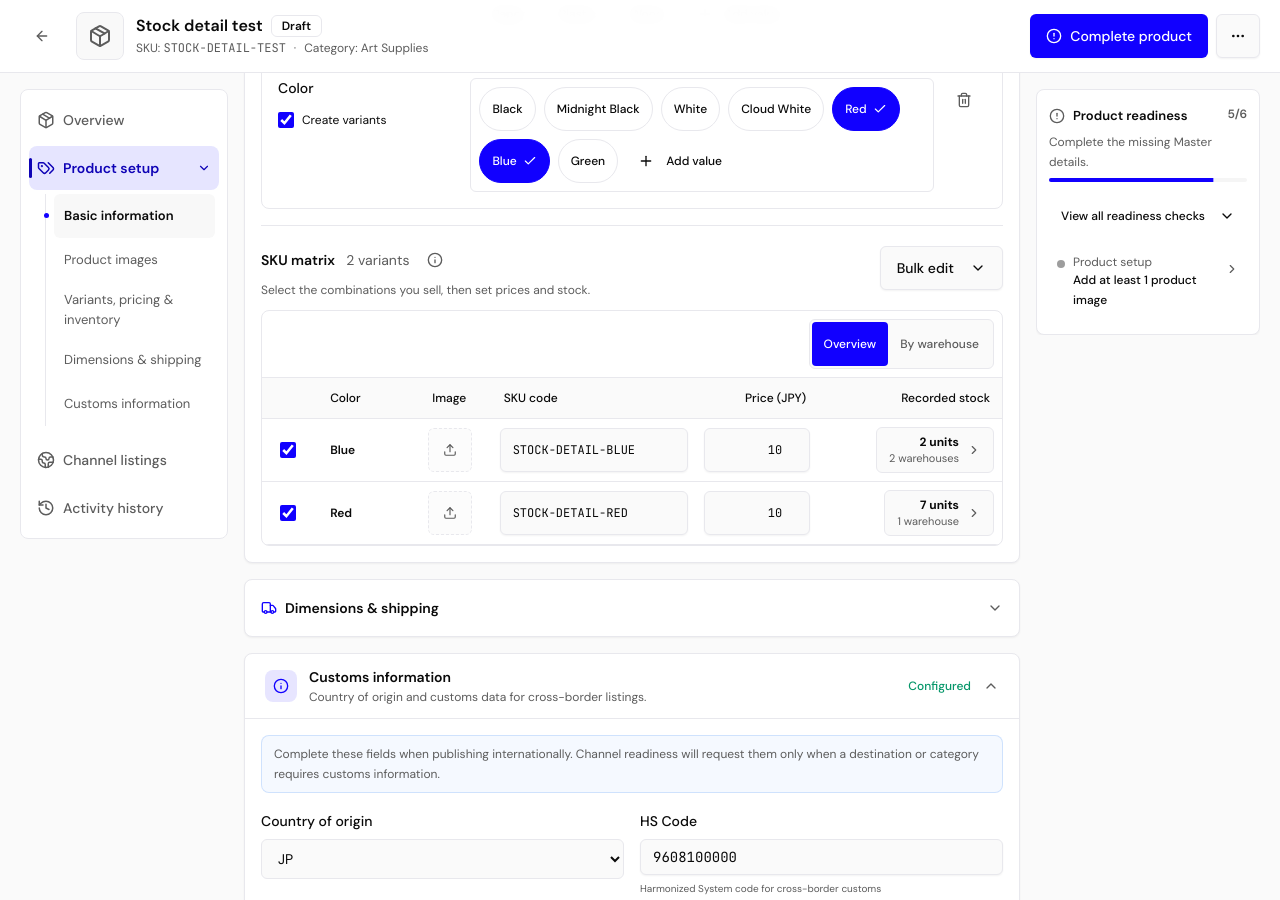
Test: stock adjustments without leaving Product Master › shows related locations per variant in a full-width panel and keeps provider stock read-only
This screenshot has width=1280, height=900.
(page scrolled)
Click the button with aria-label "View inventory for Blue": (935, 450) [876, 427, 994, 473]
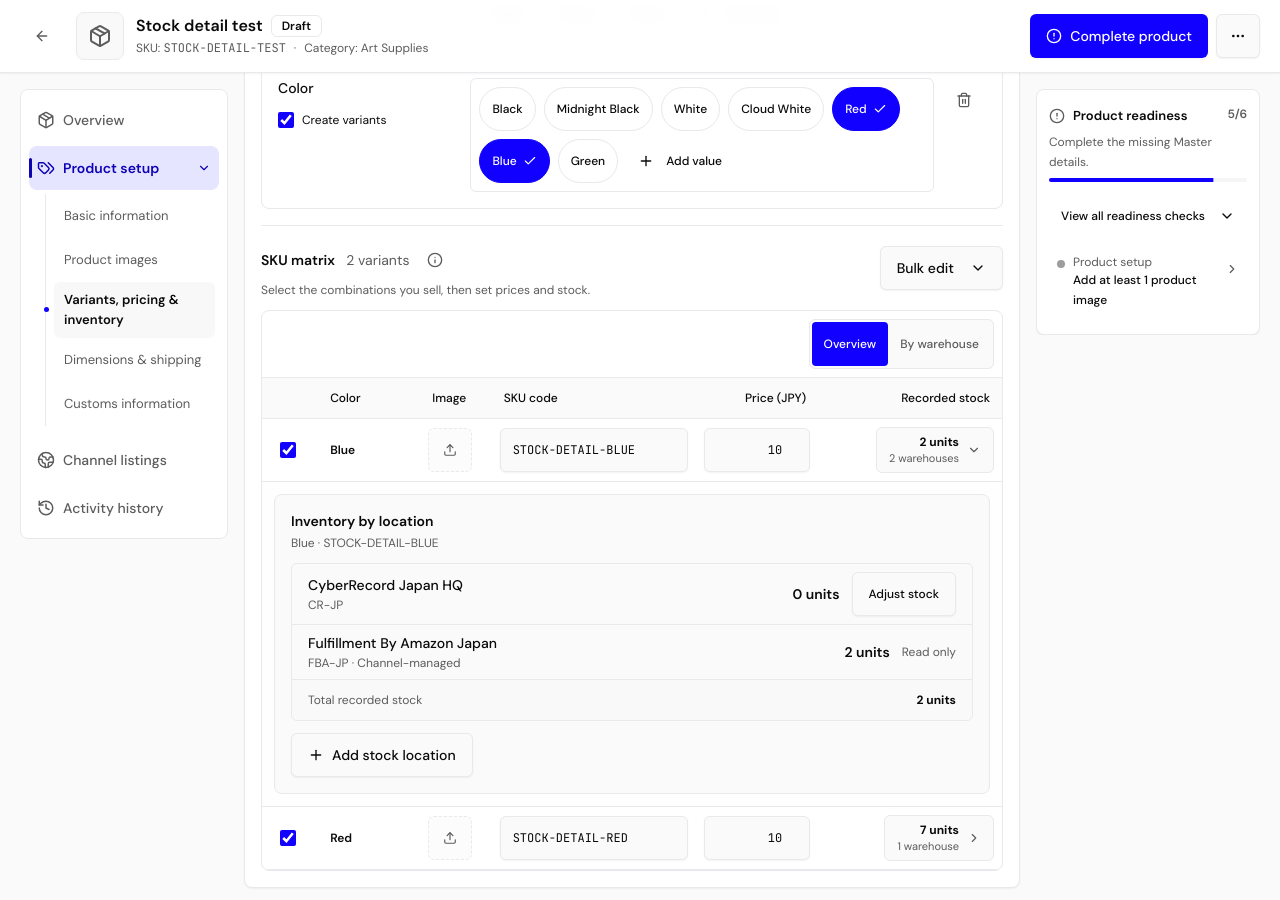
expect the text "CyberRecord Japan HQ" is shown: met, box [308, 575, 463, 595]
expect the text "0 units" is shown: met, box [792, 584, 840, 604]
expect the text "FBA-JP · Channel-managed" is shown: met, box [308, 655, 461, 671]
